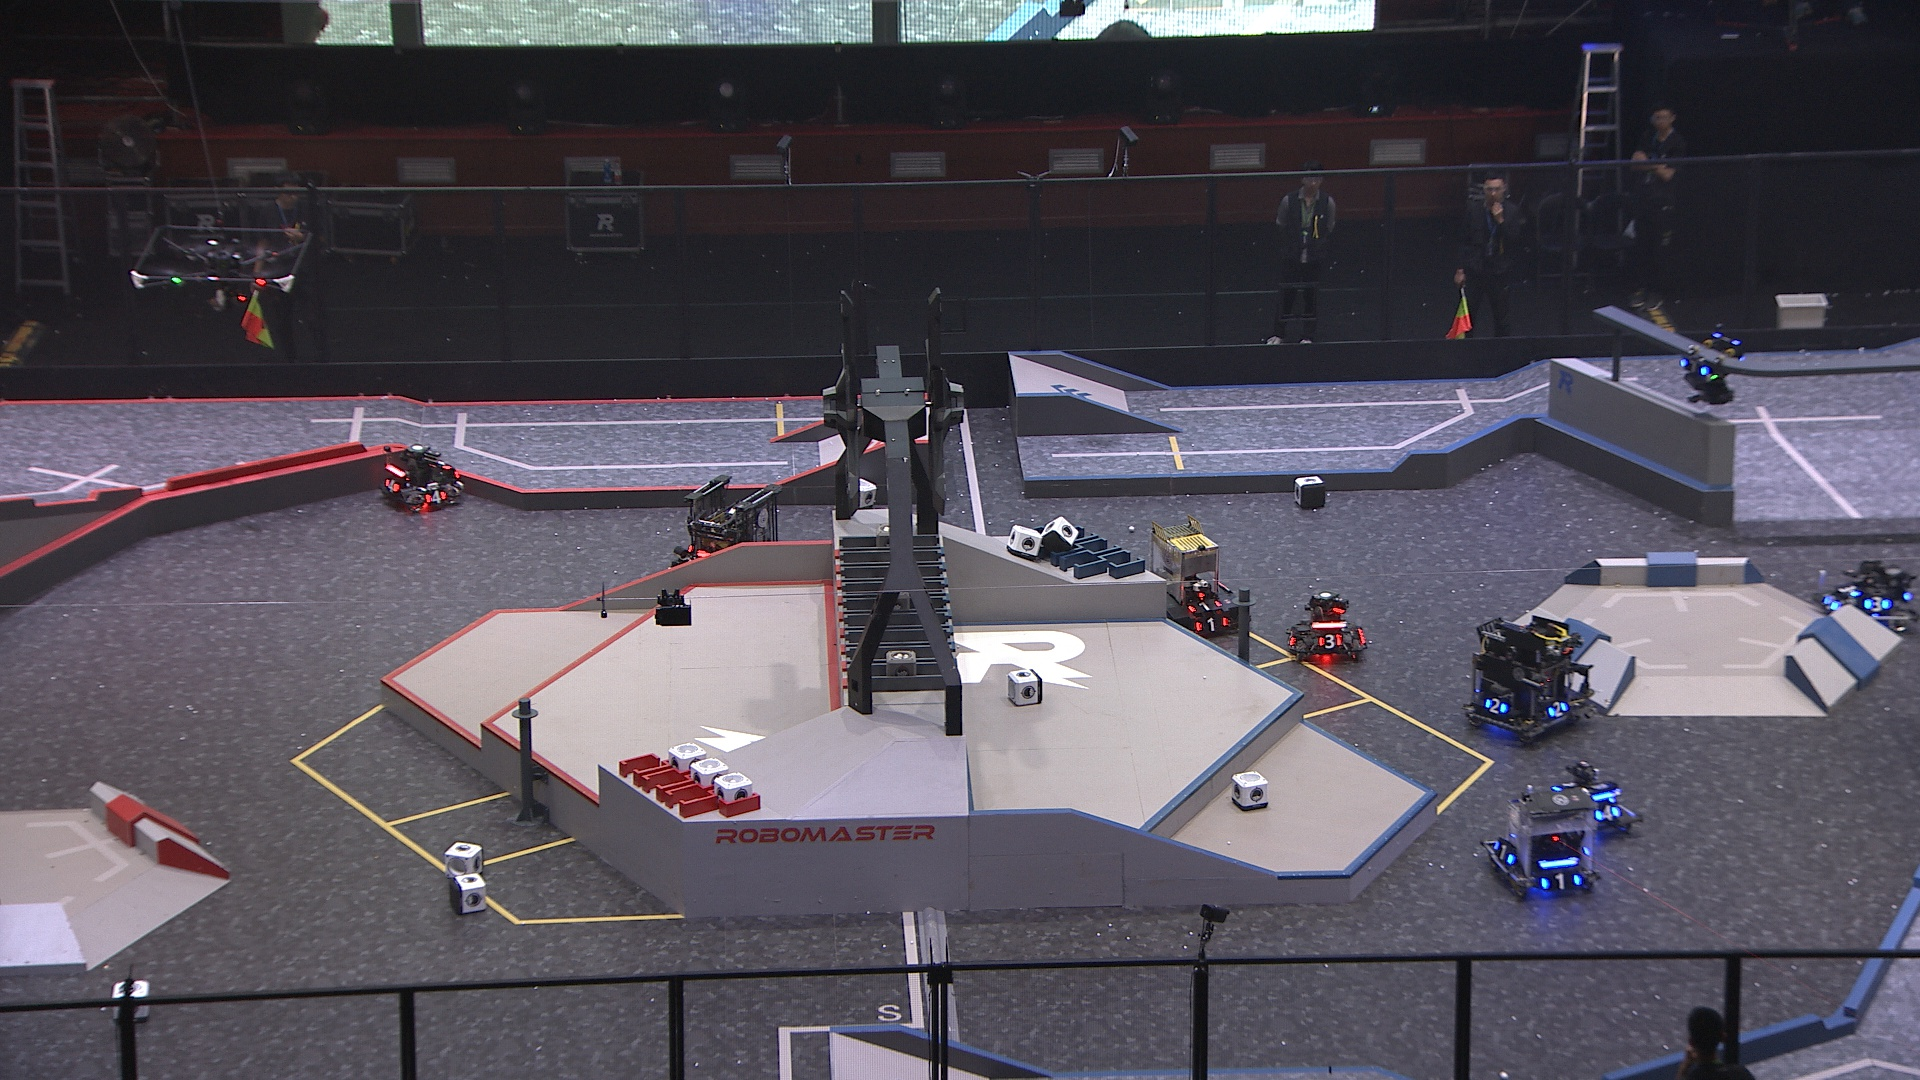armor: (1679, 356, 1708, 380), (1195, 615, 1230, 633), (1542, 873, 1581, 887), (1491, 841, 1515, 865), (1485, 694, 1509, 716), (1185, 599, 1221, 612), (1865, 595, 1890, 613), (1594, 804, 1621, 822), (1317, 632, 1340, 650), (1545, 700, 1569, 717), (1549, 779, 1577, 793), (1840, 582, 1859, 600), (1820, 593, 1840, 612), (425, 491, 447, 506), (1284, 626, 1298, 651), (382, 476, 401, 493), (436, 458, 454, 471)
car: (1466, 611, 1590, 745), (666, 471, 783, 595), (1481, 783, 1600, 897), (1145, 522, 1247, 637), (1813, 556, 1917, 638), (1545, 760, 1640, 840), (377, 443, 465, 517), (1283, 591, 1371, 665)
watcher: (1676, 327, 1741, 405)
